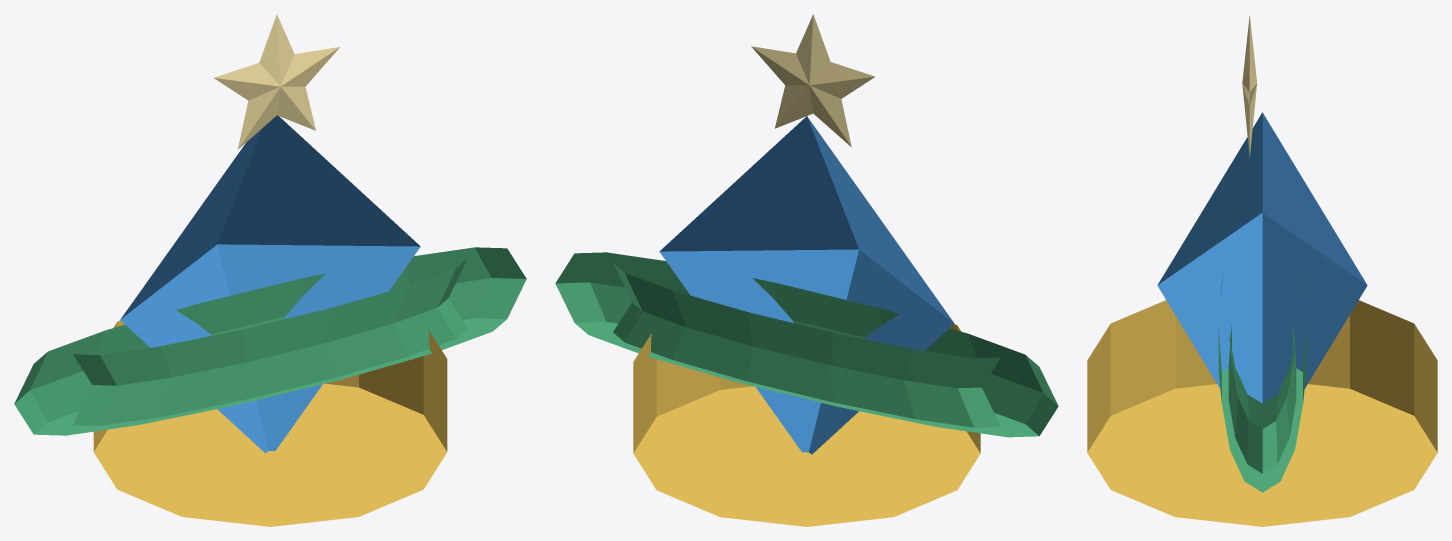
File: minglora_parish_pride_crest.gltf
3 views of the same model, side by side, from view 1: azimuth 30°, elevation 25°; view 2: azimuth 150°, elevation 25°; view 3: azimuth 270°, elevation 25° (orthographic).
Parts seen in each view (by area): view 1: minglora_parish_pride_crest_3, minglora_parish_pride_crest_0, minglora_parish_pride_crest_1, minglora_parish_pride_crest_2; view 2: minglora_parish_pride_crest_3, minglora_parish_pride_crest_0, minglora_parish_pride_crest_1, minglora_parish_pride_crest_2; view 3: minglora_parish_pride_crest_0, minglora_parish_pride_crest_1, minglora_parish_pride_crest_3, minglora_parish_pride_crest_2.
Part boxes in pixels (<box>): minglora_parish_pride_crest_3: <box>14,247,526,435</box>; minglora_parish_pride_crest_0: <box>93,320,447,526</box>; minglora_parish_pride_crest_1: <box>120,115,420,453</box>; minglora_parish_pride_crest_2: <box>213,14,339,149</box>; minglora_parish_pride_crest_3: <box>555,252,1058,437</box>; minglora_parish_pride_crest_0: <box>633,324,980,526</box>; minglora_parish_pride_crest_1: <box>659,116,954,454</box>; minglora_parish_pride_crest_2: <box>751,14,875,147</box>; minglora_parish_pride_crest_0: <box>1087,300,1437,526</box>; minglora_parish_pride_crest_1: <box>1157,112,1367,403</box>; minglora_parish_pride_crest_3: <box>1218,273,1306,492</box>; minglora_parish_pride_crest_2: <box>1242,15,1257,157</box>.
Size of the model in its own units: 1.84 by 1.54 by 1.1.
